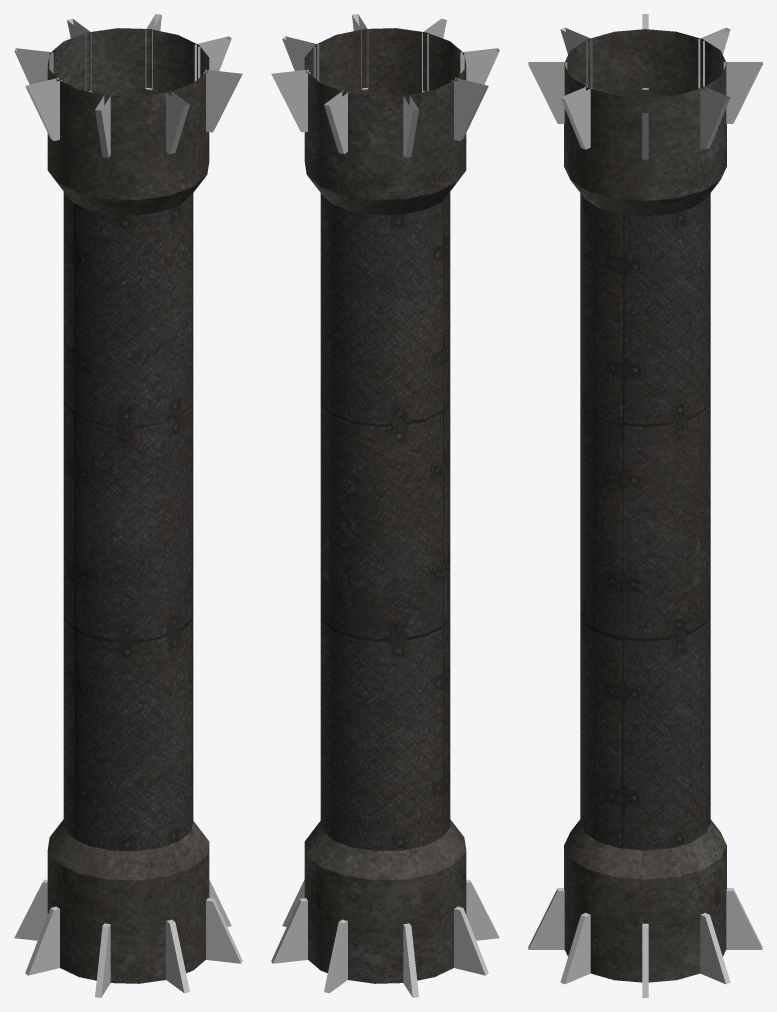
The model's file is pillar_11.fbx.
3 views of the same model, side by side, from view 1: azimuth 30°, elevation 25°; view 2: azimuth 150°, elevation 25°; view 3: azimuth 270°, elevation 25° (orthographic).
Visible parts, largest first — view 1: pillar_11; view 2: pillar_11; view 3: pillar_11.
Part boxes in pixels (left/top/right/bottom): pillar_11: left=14, top=14, right=242, bottom=997; pillar_11: left=271, top=14, right=499, bottom=997; pillar_11: left=528, top=14, right=762, bottom=997.
Size of the model in its own units: 0.72 by 0.72 by 3.
